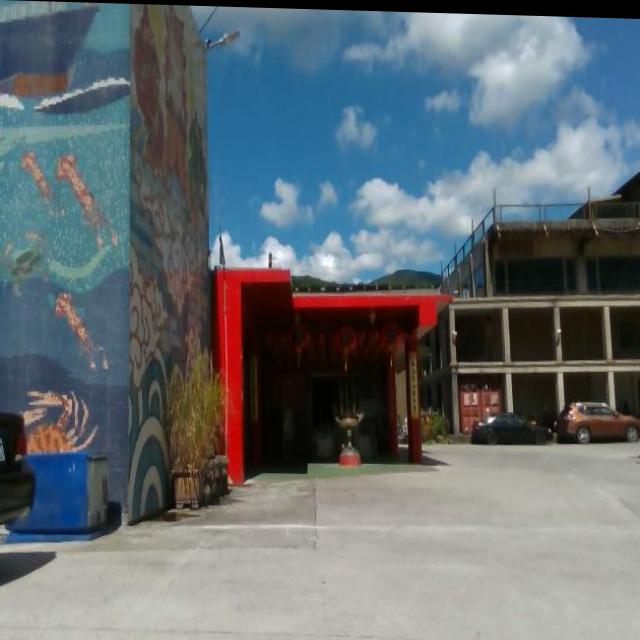pollute: (397, 414, 407, 443)
